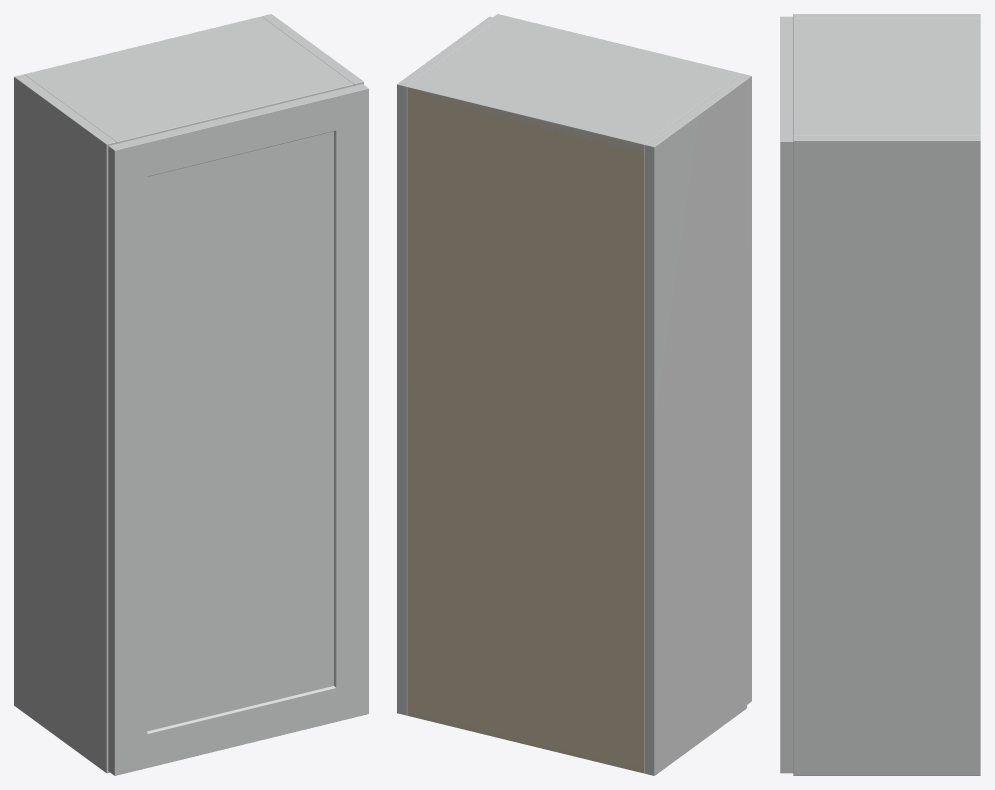
Rendered from PLY-WSS-W1842.glb.
3 views of the same model, side by side, from view 1: azimuth 30°, elevation 25°; view 2: azimuth 150°, elevation 25°; view 3: azimuth 270°, elevation 25° (orthographic).
Visible parts, largest first — view 1: Shaker door, Carcass left, Carcass top, Carcass right; view 2: Carcass back, Carcass left, Carcass top, Carcass right, Shaker door, Carcass bottom; view 3: Carcass right, Carcass top, Shaker door, Carcass left.
Part boxes in pixels (x1,y1,x2,y2): Shaker door: [108, 84, 368, 775]; Carcass left: [14, 74, 116, 773]; Carcass top: [24, 16, 353, 143]; Carcass right: [262, 14, 363, 85]; Carcass back: [407, 87, 644, 772]; Carcass left: [644, 77, 746, 775]; Carcass top: [407, 19, 736, 154]; Carcass right: [397, 16, 499, 715]; Shaker door: [493, 14, 751, 704]; Carcass bottom: [407, 707, 644, 773]; Carcass right: [793, 136, 980, 775]; Carcass top: [793, 19, 980, 135]; Shaker door: [780, 16, 793, 773]; Carcass left: [793, 14, 980, 18].
Size of the model in its own units: 0.4572 by 1.07 by 0.3048.
